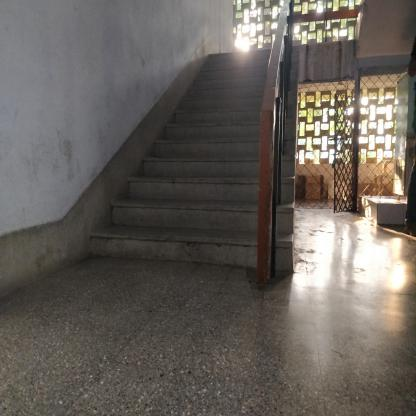stairs: (197, 85, 255, 279)
